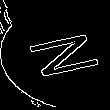N_E: (10, 28, 100, 82)
